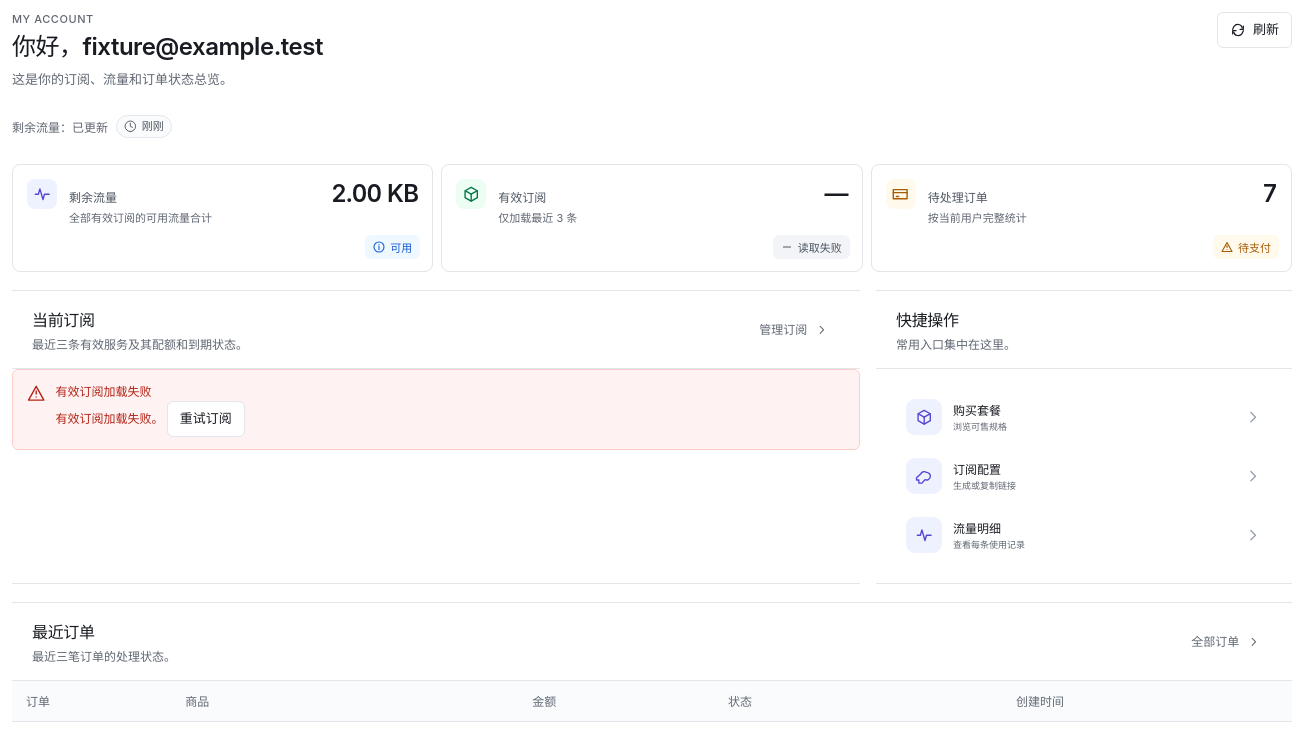
it: dashboard independent sections › retries only the failed section without re-fetching successful summaries
The width and height of the screenshot is (1304, 731).
Click the button "重试订阅": [206, 419] box [167,401,245,437]
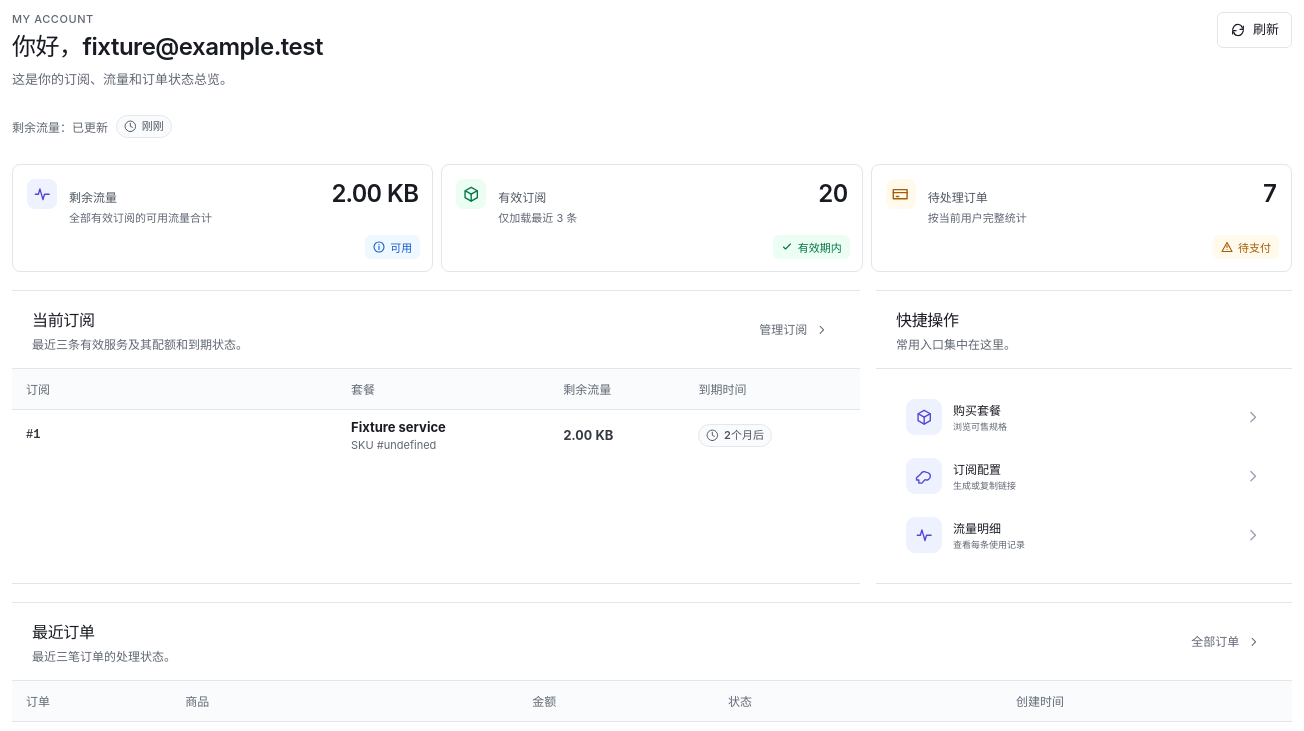
Check: the text "Fixture service" is shown, box [351,419,535,435]
